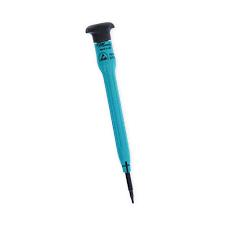screwdriver: (84, 21, 134, 204)
